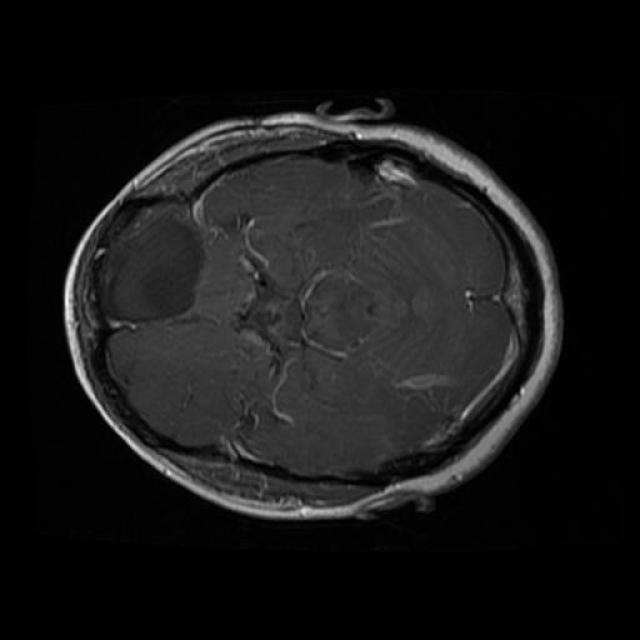Glioma: (101, 212, 204, 321)
